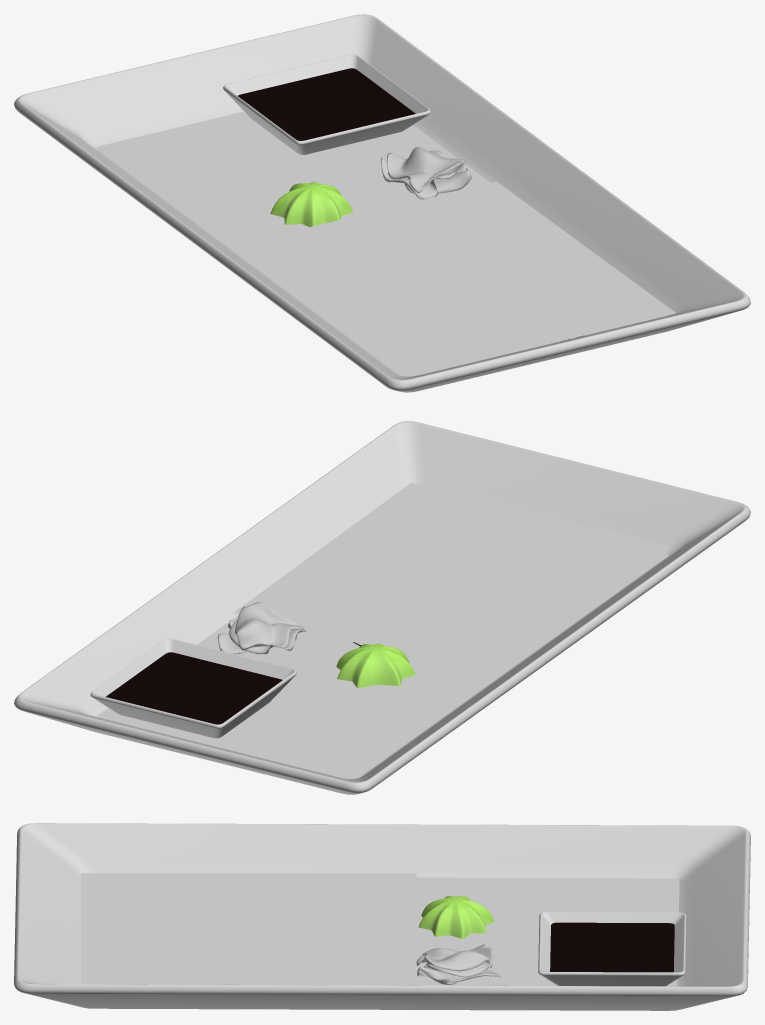
The model's file is sushi_plate.fbx.
The picture shows the model from 3 angles, top to bottom: view 1: azimuth 30°, elevation 25°; view 2: azimuth 150°, elevation 25°; view 3: azimuth 270°, elevation 25°; orthographic projection. The views are drawn at different scales.
Parts seen in each view (by area): view 1: sushi, Plane; view 2: sushi, Plane; view 3: sushi, Plane.
Boxes of the visible parts, x1,y1,x2,y2 form: sushi: (14, 14, 750, 392); Plane: (233, 181, 675, 376); sushi: (14, 421, 750, 794); Plane: (233, 483, 670, 676); sushi: (14, 823, 750, 1010); Plane: (81, 873, 416, 985).
Size of the model in its own units: 105 by 12 by 197.
